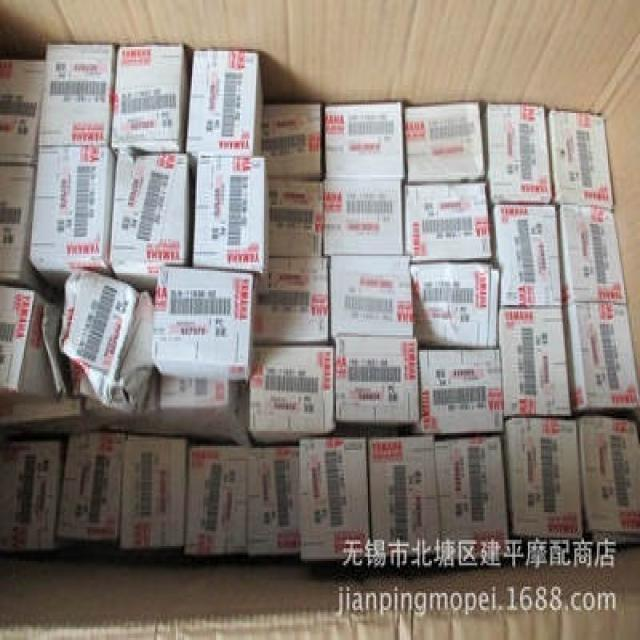box: (29, 147, 115, 288), (152, 267, 256, 382), (109, 154, 189, 290), (504, 418, 586, 540), (194, 158, 269, 290), (434, 435, 512, 559), (184, 51, 264, 166), (368, 437, 442, 559), (110, 43, 190, 154), (299, 439, 371, 559), (248, 346, 336, 444), (563, 305, 640, 414), (499, 305, 573, 416), (579, 418, 640, 548), (37, 45, 115, 145), (118, 435, 187, 548), (411, 262, 501, 348), (414, 350, 506, 433), (490, 205, 563, 307), (482, 102, 554, 205), (56, 433, 123, 542), (403, 181, 493, 262), (0, 442, 67, 550), (334, 337, 418, 422), (330, 256, 413, 341), (558, 207, 627, 305), (253, 256, 330, 343), (0, 284, 58, 399), (186, 446, 246, 555), (406, 100, 486, 181), (325, 100, 405, 181), (547, 111, 614, 207), (322, 179, 403, 256), (246, 446, 299, 553), (0, 164, 40, 290), (0, 60, 45, 162), (264, 105, 322, 179), (270, 179, 323, 256), (160, 378, 229, 407)
